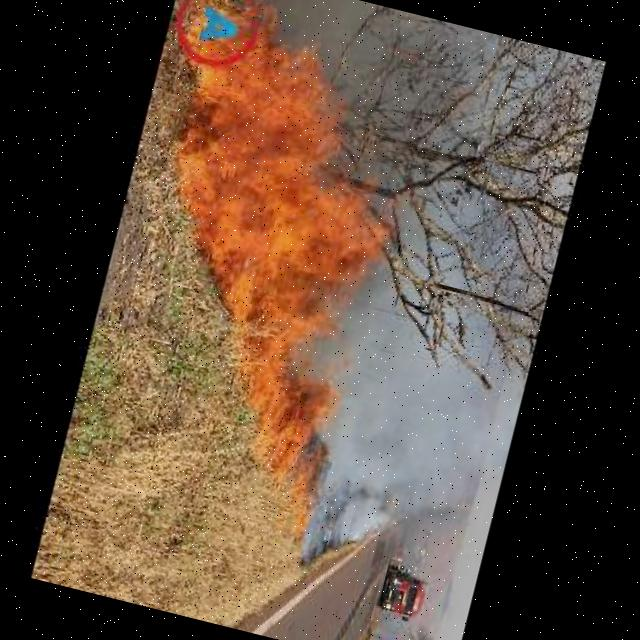fire: (80, 0, 431, 535)
